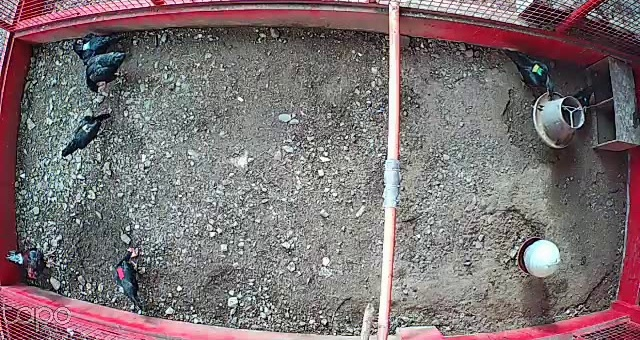Chicken: (497, 43, 556, 99), (80, 45, 131, 102), (58, 111, 113, 162), (108, 245, 151, 310), (70, 30, 133, 68), (570, 73, 604, 123)
Rooster: (3, 247, 65, 285)
Saddle_Color_Red: (115, 266, 125, 279)
Saddle_Color_White: (82, 41, 89, 49)
Saddle_Color_Yellow: (78, 121, 93, 137)
Saddle_Color_YellowGreen: (532, 62, 543, 76)
